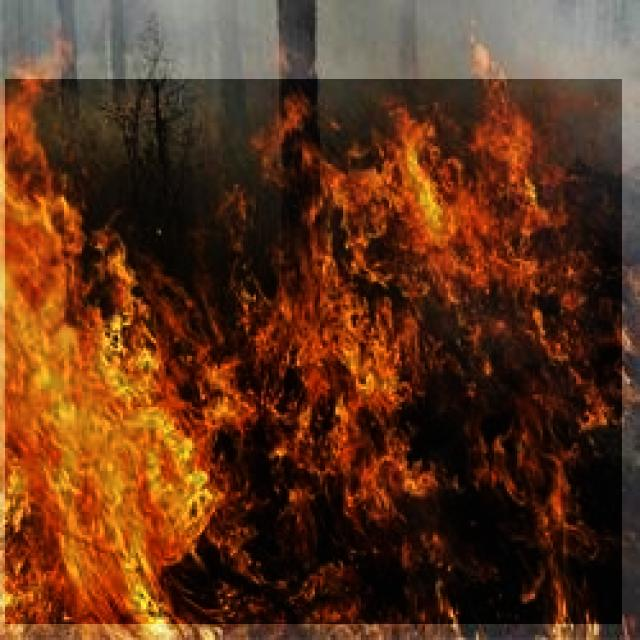Fire: (5, 79, 622, 624)
